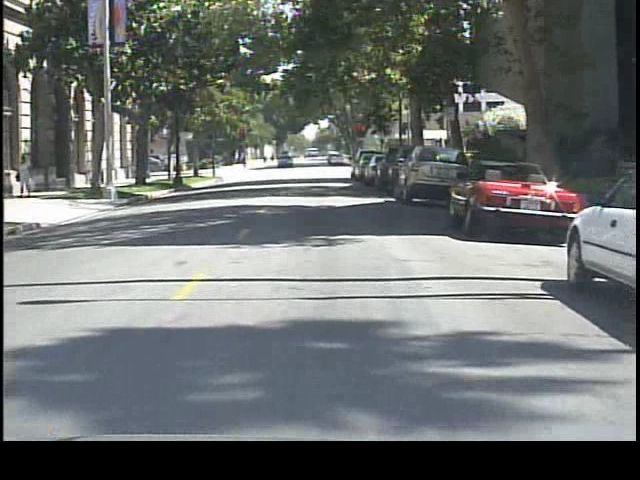person: (13, 152, 39, 196)
